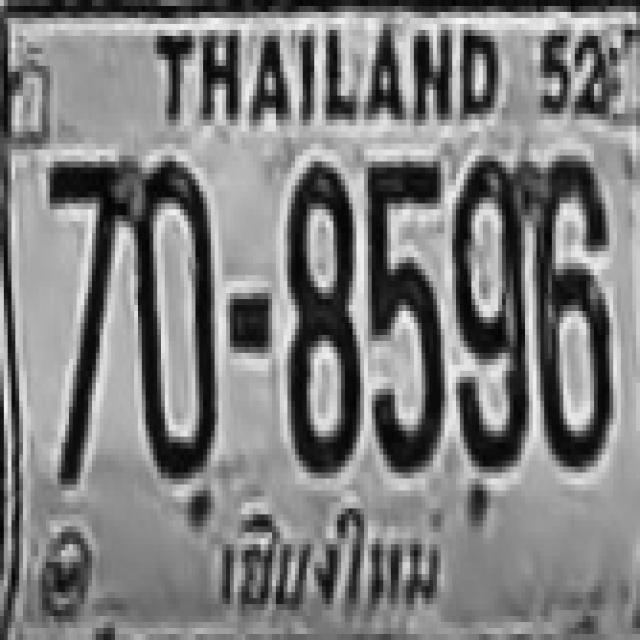0: (134, 156, 215, 478)
5: (364, 156, 441, 467)
6: (529, 152, 609, 464)
7: (48, 158, 128, 482)
8: (288, 156, 357, 467)
9: (448, 156, 525, 467)
ChiangMai: (201, 496, 452, 623)
